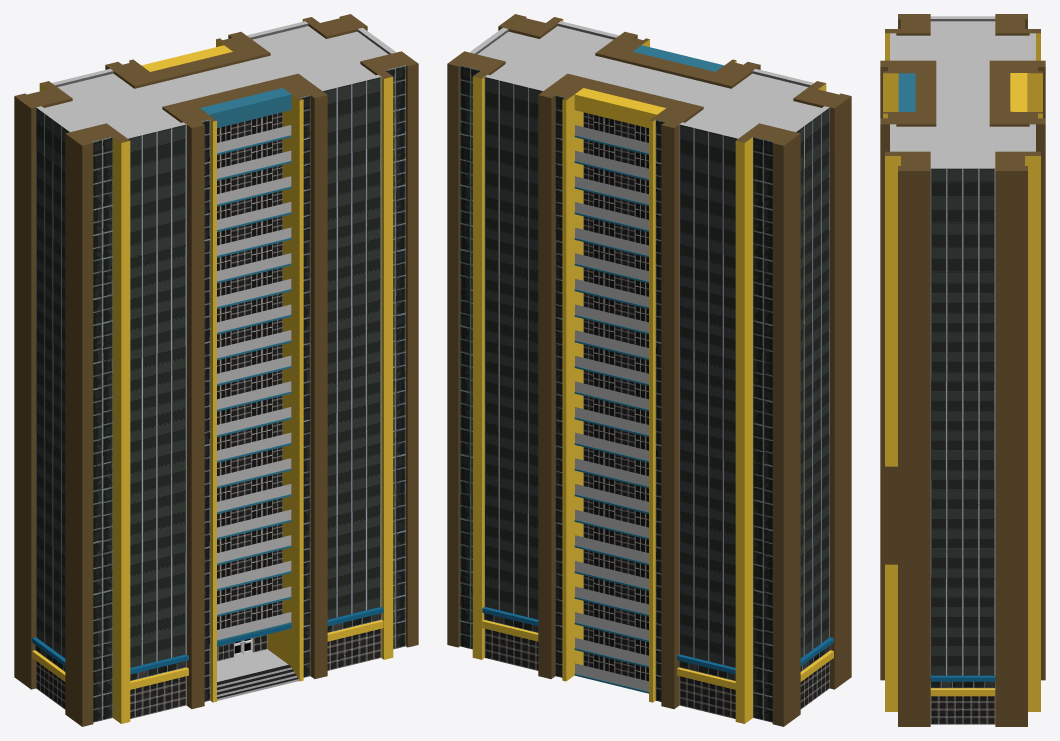
The picture shows the model from 3 angles, left to right: view 1: azimuth 30°, elevation 25°; view 2: azimuth 150°, elevation 25°; view 3: azimuth 270°, elevation 25°; orthographic projection. The views are drawn at different scales.
Visible parts, largest first — view 1: Building; view 2: Building; view 3: Building.
Boxes of the visible parts, <box> form: Building: <box>14,14,418,726</box>; Building: <box>447,14,851,726</box>; Building: <box>880,14,1045,726</box>.
Size of what is drawn, in the model's own units: 41.21 by 68 by 18.36.
